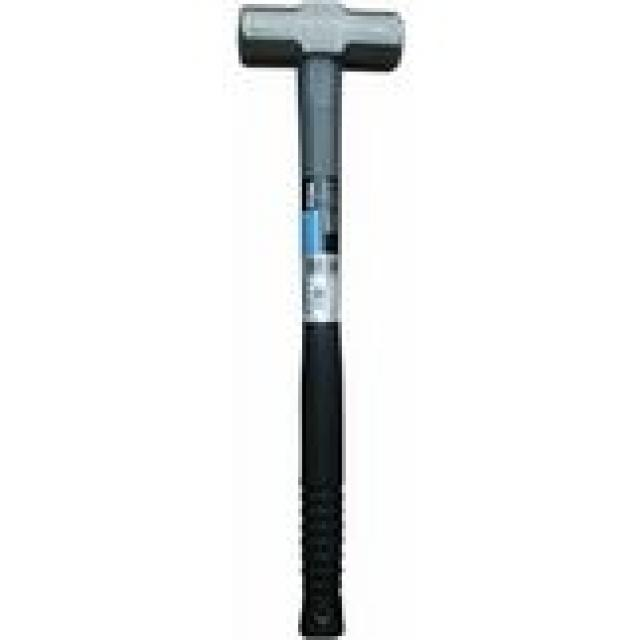hammer: (228, 0, 422, 640)
